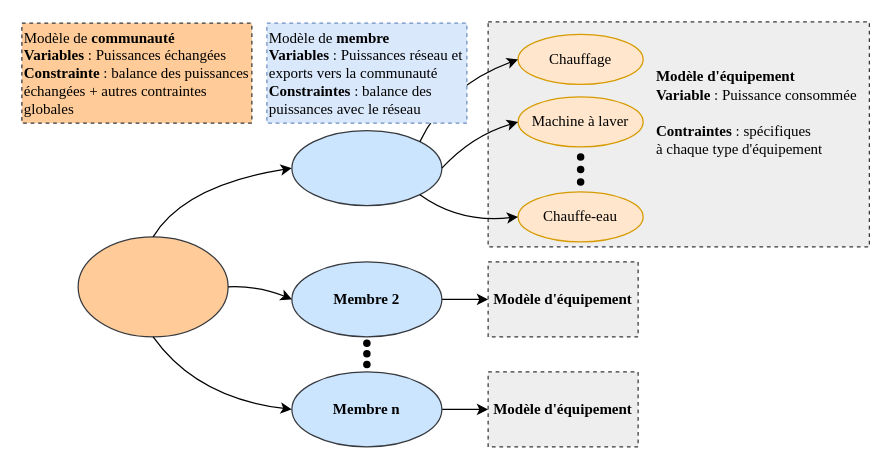
The diagram is 891 pixels wide and 469 high, and some of its shapes have lost their labels. Each missing label, with the centre of its shape:
Communauté: point 152,286
Membre 1: point 366,167
